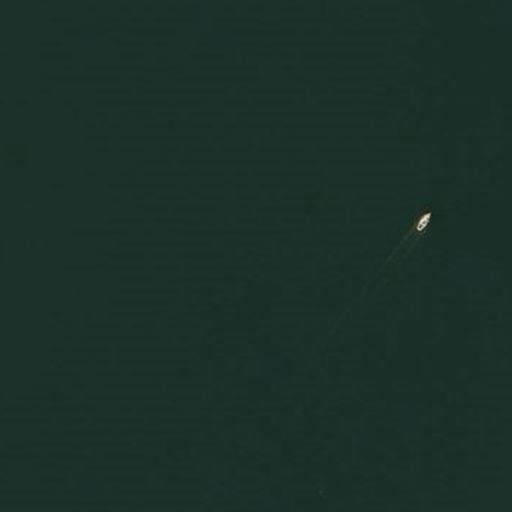ship: (414, 210, 435, 234)
